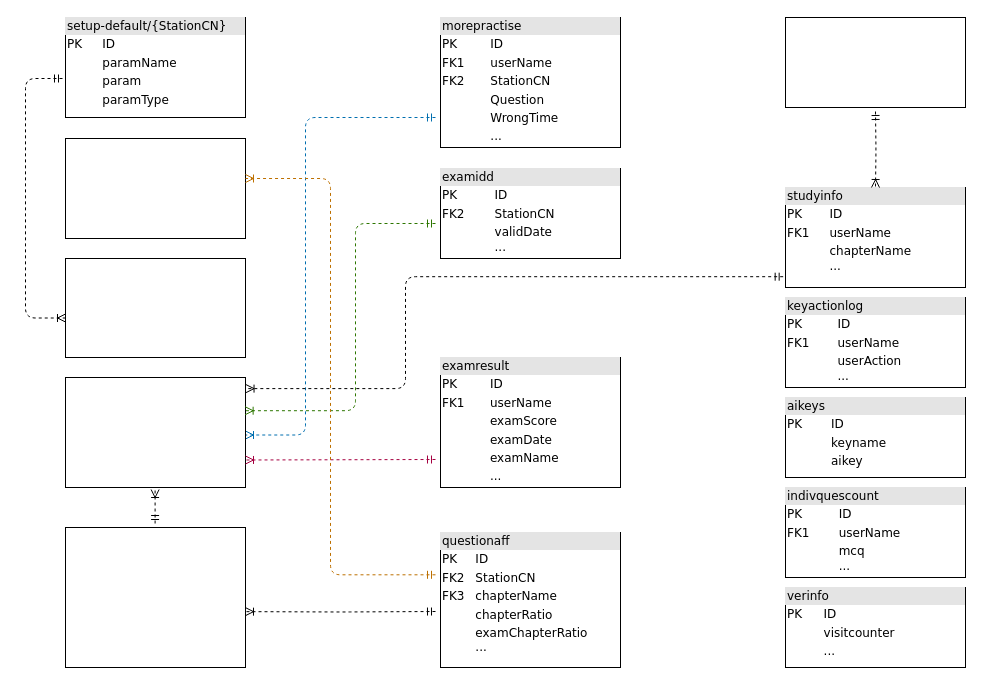
Image size: 983x685. Some labels were removed from this diagram. Here are the shapes that lost their labels. From the top down, the box of each, then its label:
(784, 16, 966, 108): favques PK ID FK1 userName qOption ...
(64, 138, 246, 238): commquestions PK ID Question qOption ...
(64, 258, 246, 358): stations PK ID Station lat lng
(64, 376, 246, 488): users PK ID FK1 userName FK2 StationCN ...
(64, 526, 246, 668): Questions PK ID FK2 StationCN FK3 chapterName qOption qAnswer ...
